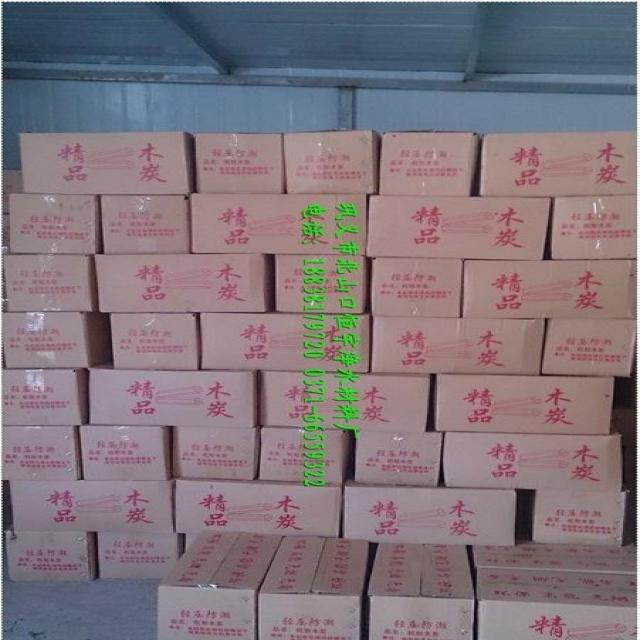box: (155, 531, 282, 640), (343, 473, 515, 547), (441, 423, 623, 491), (366, 195, 551, 260), (475, 568, 637, 640), (258, 537, 369, 640), (434, 374, 614, 435), (257, 370, 430, 433), (88, 363, 257, 427), (189, 193, 366, 254), (20, 132, 194, 193), (366, 543, 475, 640), (463, 259, 636, 318), (370, 317, 545, 375), (480, 132, 636, 197), (94, 254, 268, 312), (175, 477, 342, 537), (200, 314, 369, 373), (9, 480, 173, 532), (377, 131, 480, 197), (282, 129, 382, 194), (3, 313, 111, 369), (549, 194, 637, 260), (370, 258, 463, 318), (541, 319, 637, 377), (258, 427, 355, 484), (532, 490, 627, 548), (194, 132, 284, 193), (275, 254, 365, 314), (10, 194, 101, 253), (3, 254, 96, 311), (101, 194, 189, 253), (471, 543, 637, 574), (79, 426, 172, 481), (111, 313, 199, 370), (1, 369, 88, 426), (355, 431, 443, 486), (173, 426, 258, 480), (7, 532, 98, 582), (1, 426, 81, 480), (99, 532, 183, 580)
